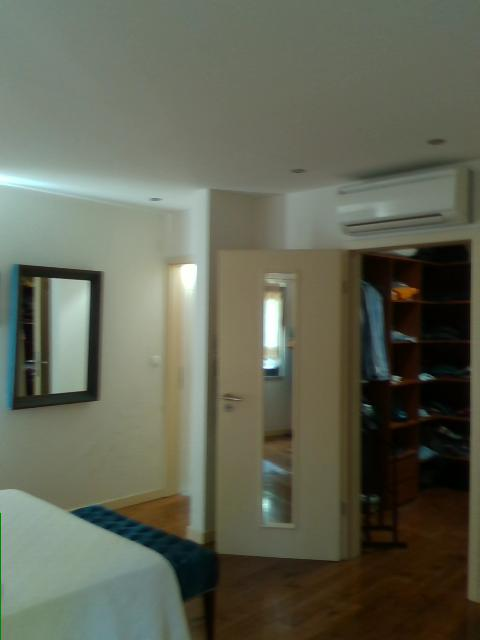open_door: (333, 235, 479, 600)
